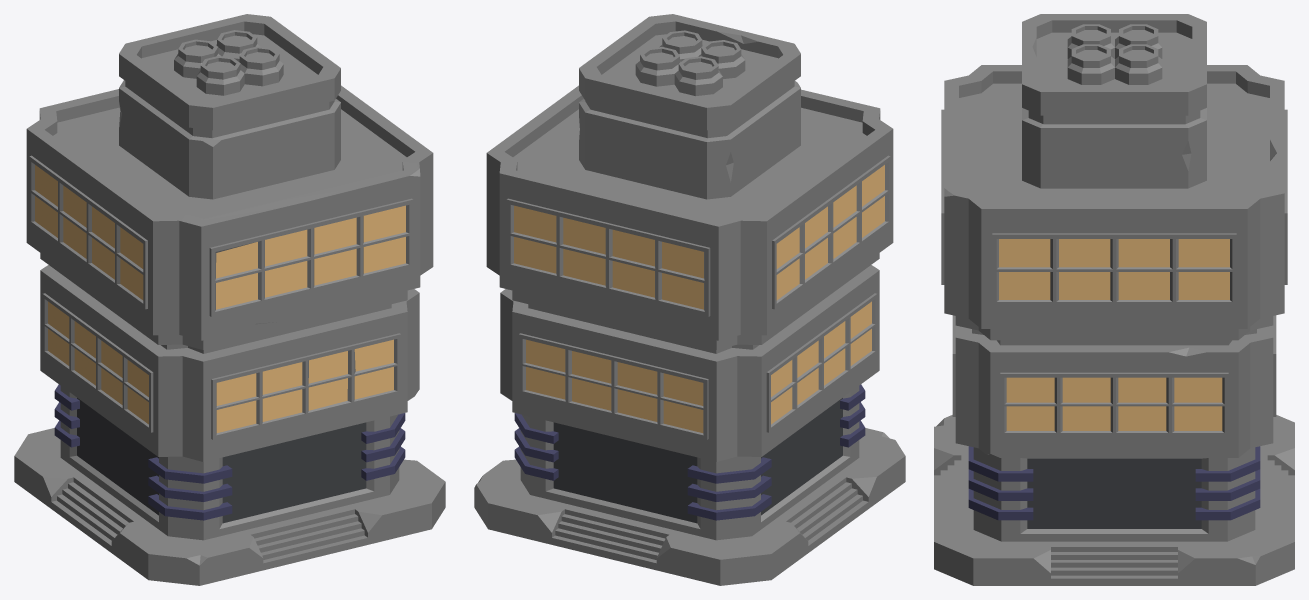
The model's file is sm_bld_Large_04.fbx.
3 views of the same model, side by side, from view 1: azimuth 30°, elevation 25°; view 2: azimuth 150°, elevation 25°; view 3: azimuth 270°, elevation 25° (orthographic). The views are drawn at different scales.
Parts seen in each view (by area): view 1: SM_Bld_Large_04; view 2: SM_Bld_Large_04; view 3: SM_Bld_Large_04.
Part boxes in pixels (box(x1,y1,x2,y2)): SM_Bld_Large_04: box(14, 14, 445, 585); SM_Bld_Large_04: box(474, 14, 905, 585); SM_Bld_Large_04: box(934, 14, 1294, 585).
Bounding box in the file's own units: 1268 × 1809 × 1268.
